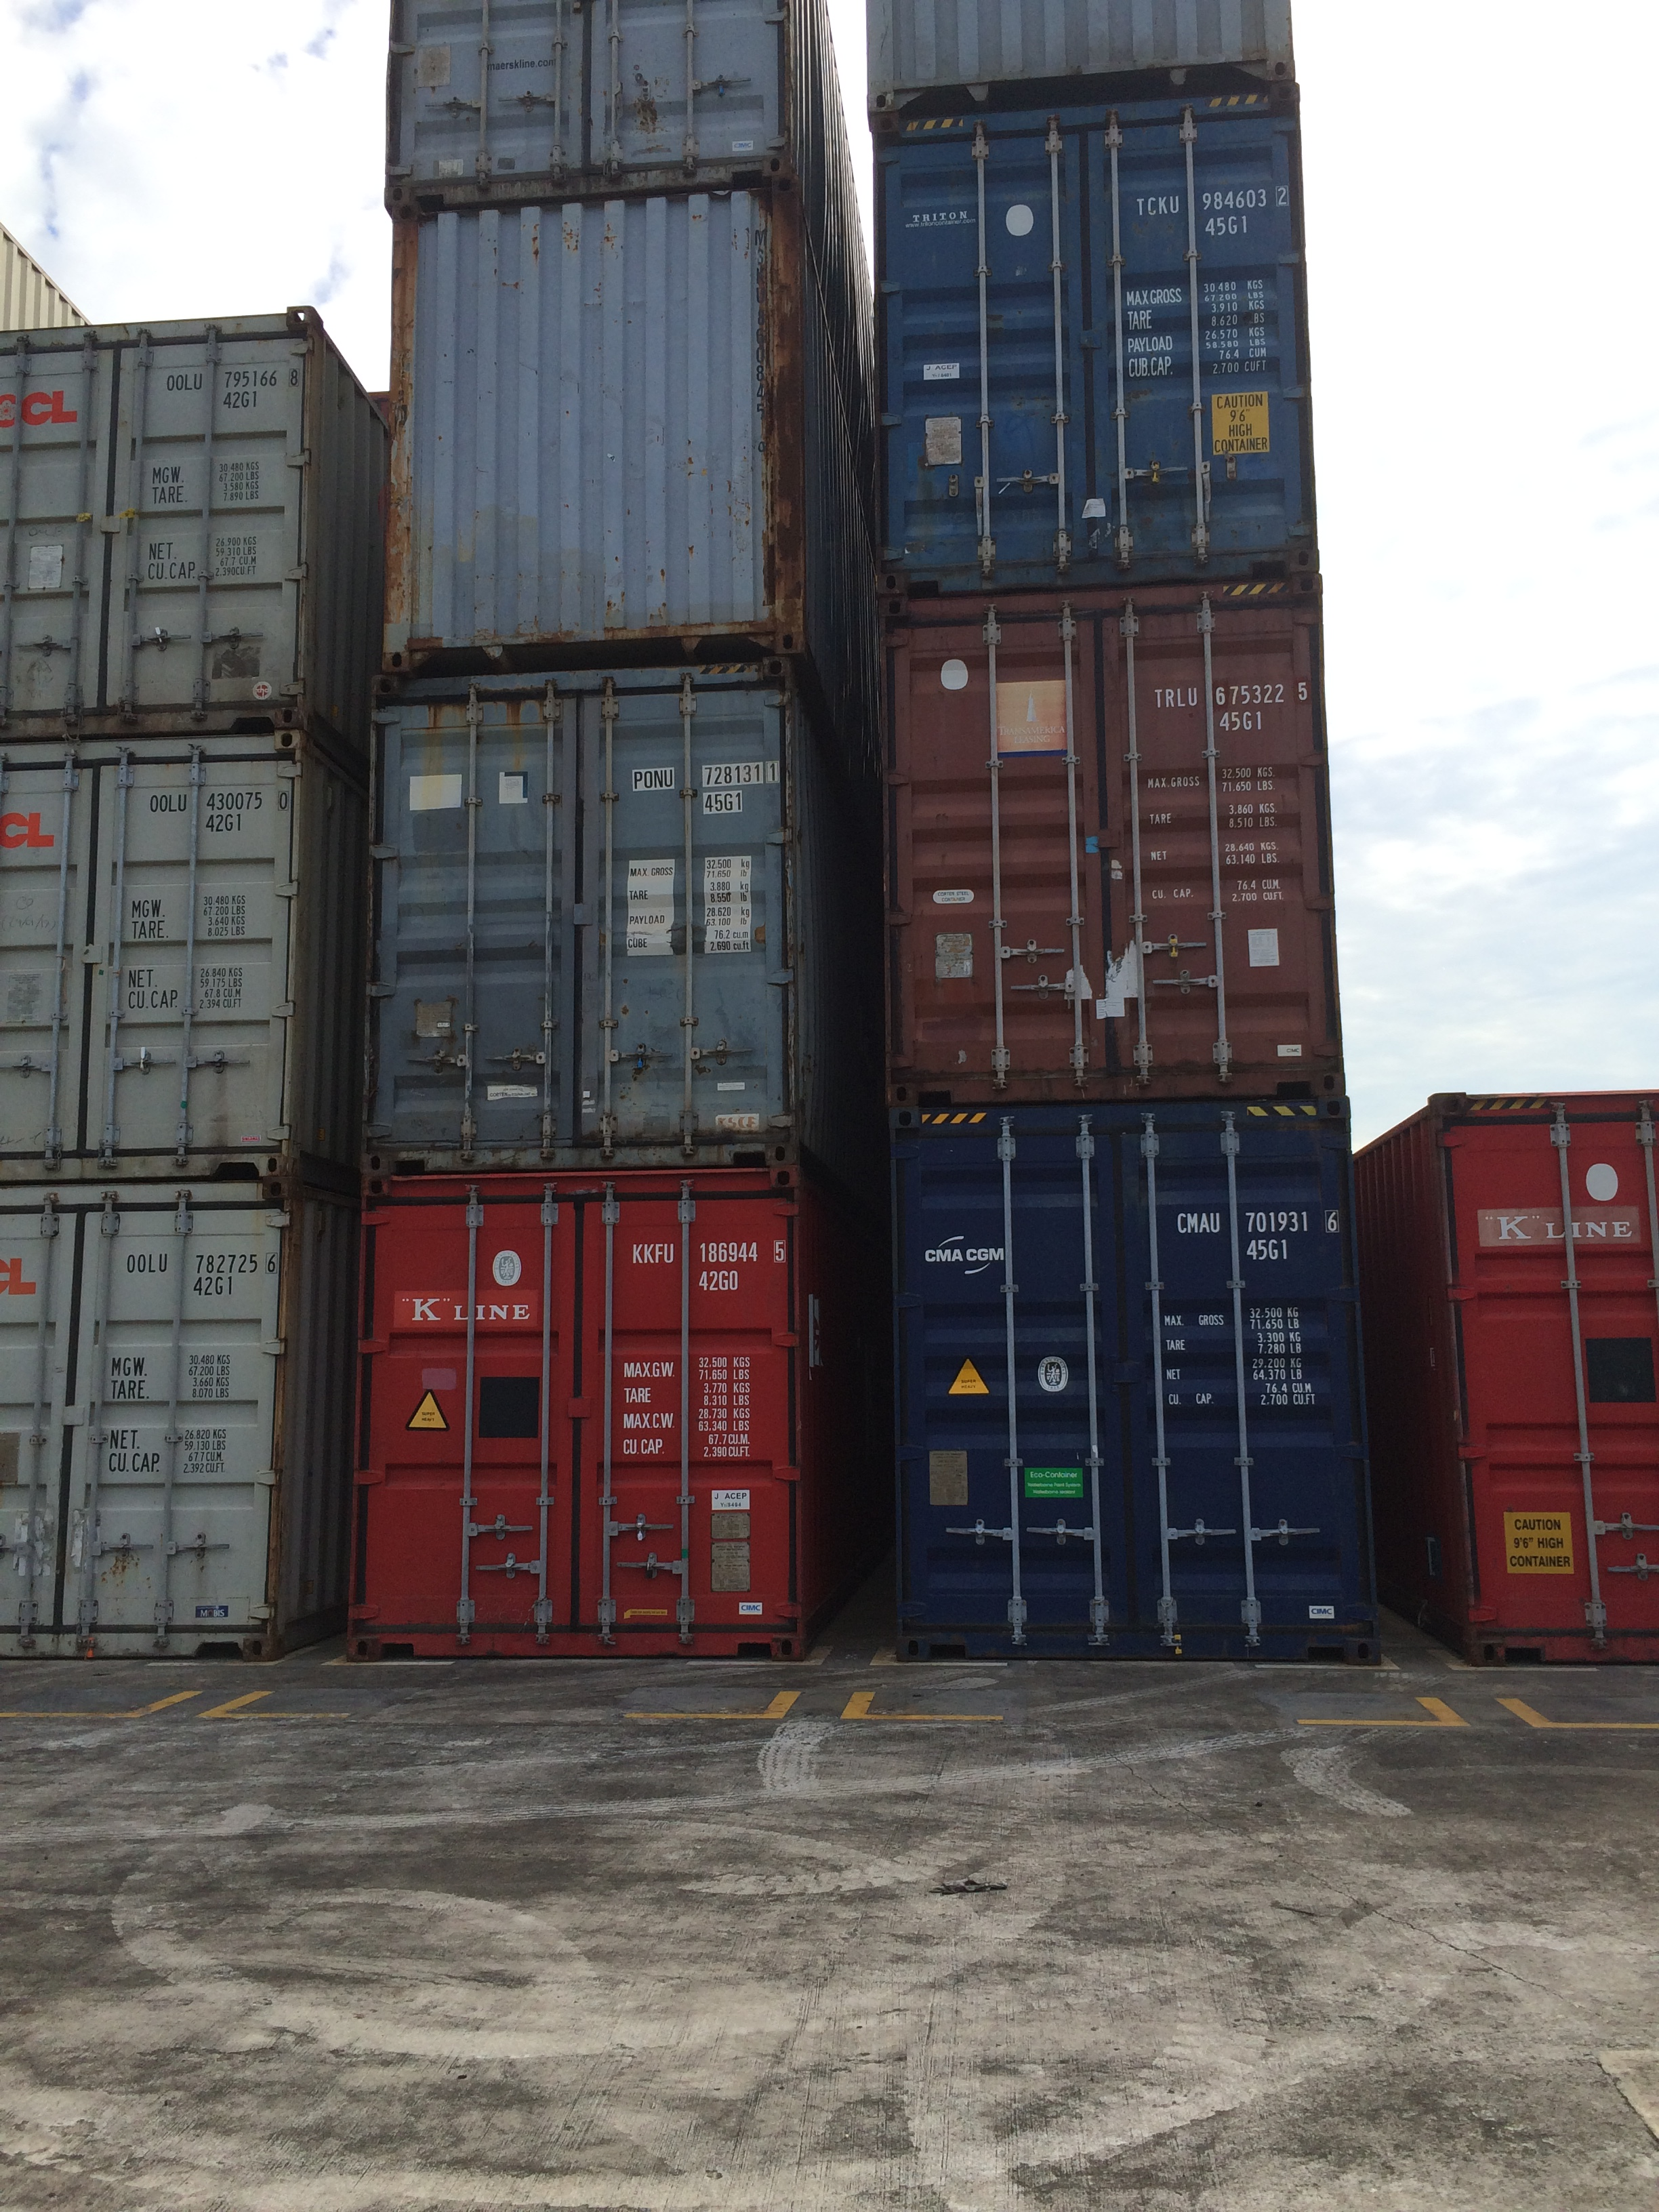container_door: (885, 1101, 1375, 1658), (880, 590, 1342, 1087), (349, 1174, 803, 1665), (352, 672, 810, 1158), (868, 106, 1319, 587), (0, 1179, 277, 1662), (0, 732, 293, 1179), (3, 320, 303, 730)
container_no_door: (382, 211, 777, 655)
